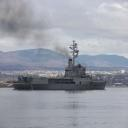Portanaves: (12, 40, 109, 92)
